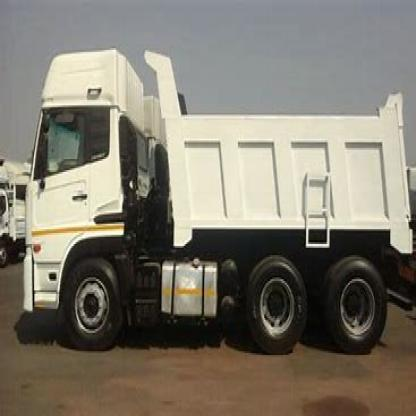dump_truck: (8, 28, 415, 366)
